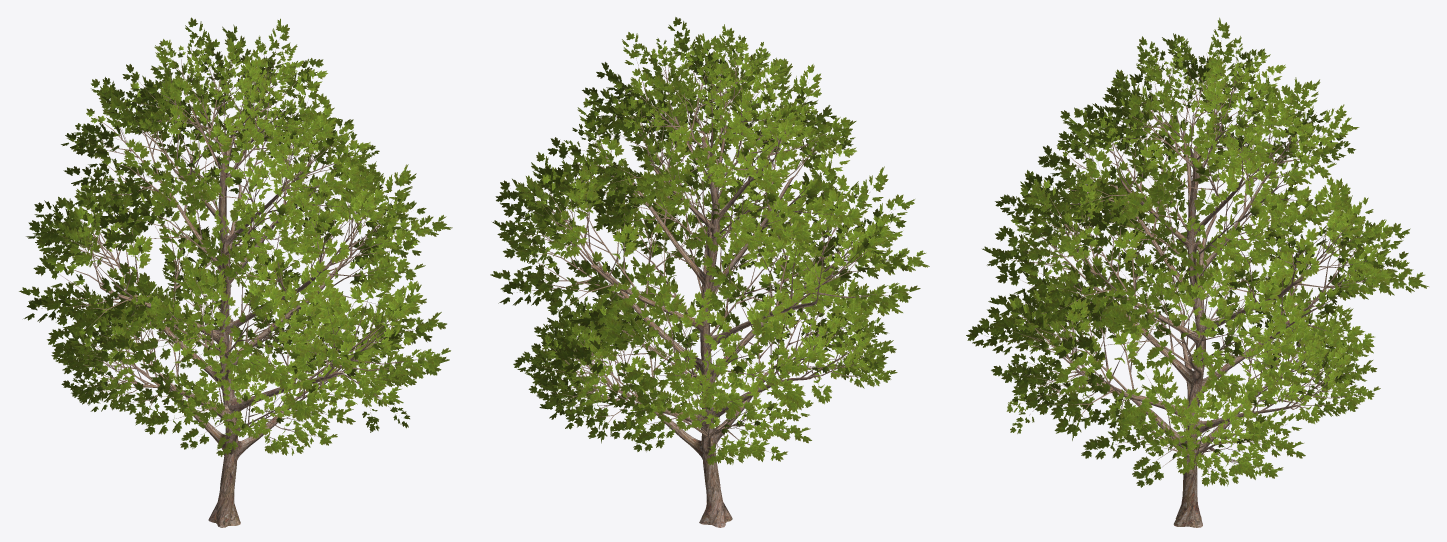
File: maple0.obj
The picture shows the model from 3 angles, left to right: view 1: azimuth 30°, elevation 25°; view 2: azimuth 150°, elevation 25°; view 3: azimuth 270°, elevation 25°; orthographic projection.
Visible parts, largest first — view 1: leaf maple, bark02; view 2: leaf maple, bark02; view 3: leaf maple, bark02.
Part boxes in pixels (x1,y1,x2,y2): leaf maple: (19, 17, 452, 456); bark02: (38, 41, 425, 527); leaf maple: (490, 17, 929, 465); bark02: (514, 46, 893, 527); leaf maple: (966, 17, 1428, 487); bark02: (999, 47, 1388, 527).
Size of the model in its own units: 696 by 814 by 716.
2 materials, 2 textured.
